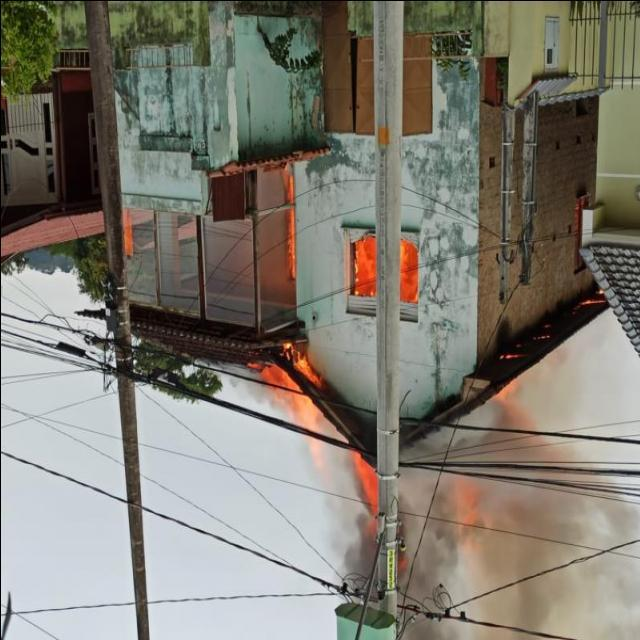Fire: (238, 338, 334, 461), (348, 238, 379, 298), (349, 452, 376, 518), (284, 170, 296, 280), (398, 239, 418, 305), (488, 380, 517, 404)
